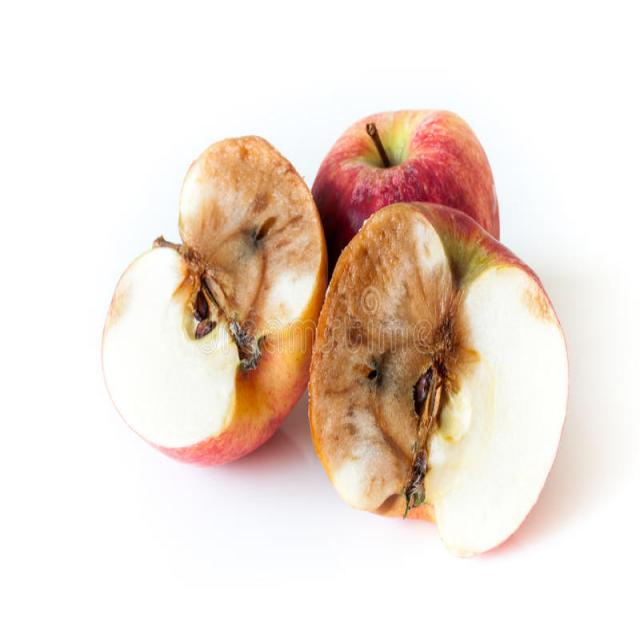Rotten: (318, 217, 566, 537), (107, 134, 316, 470)
